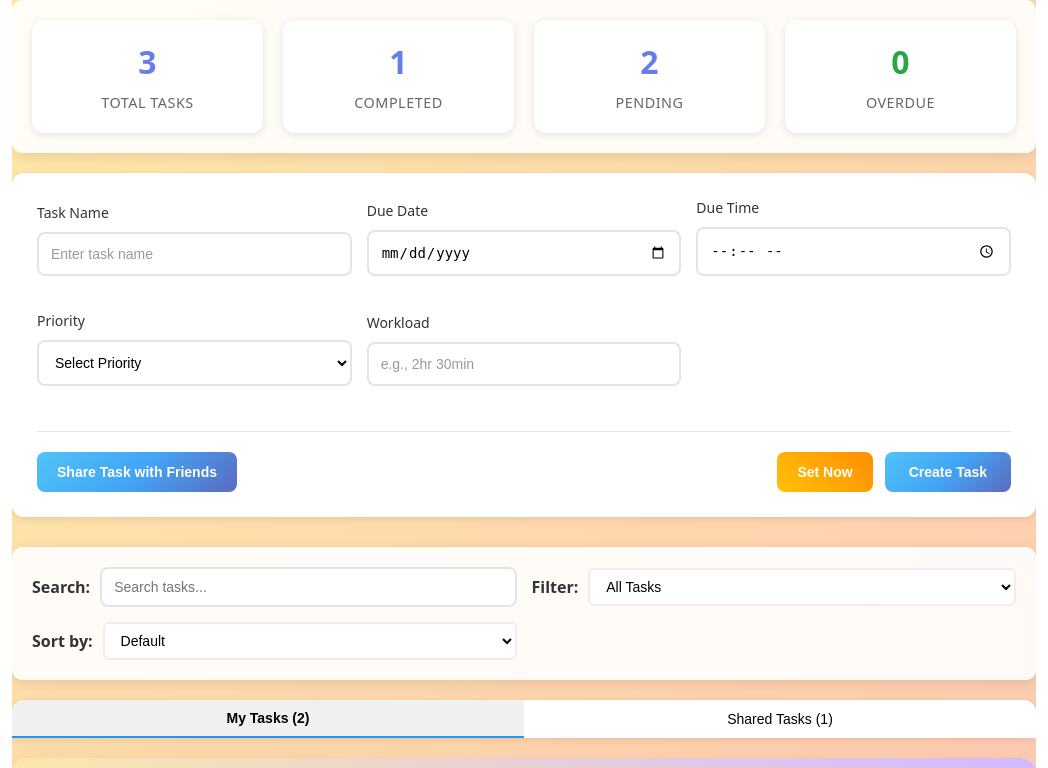
Test case: Task component › shows validation error for missing priority
Type "Valid Task" into the field with placeholder "Enter task name" at {"x": 194, "y": 254}, box [37, 232, 352, 276]
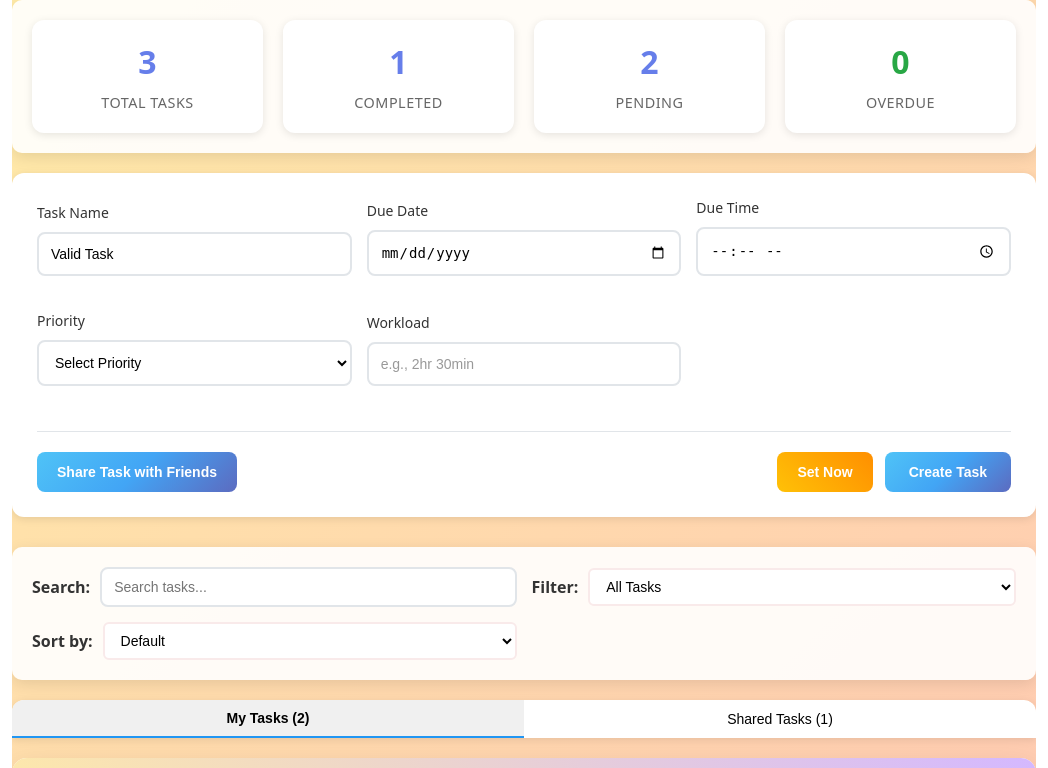
Type "2099-12-30" into the date field labelled "Due Date" at {"x": 524, "y": 253}, box [367, 230, 681, 276]
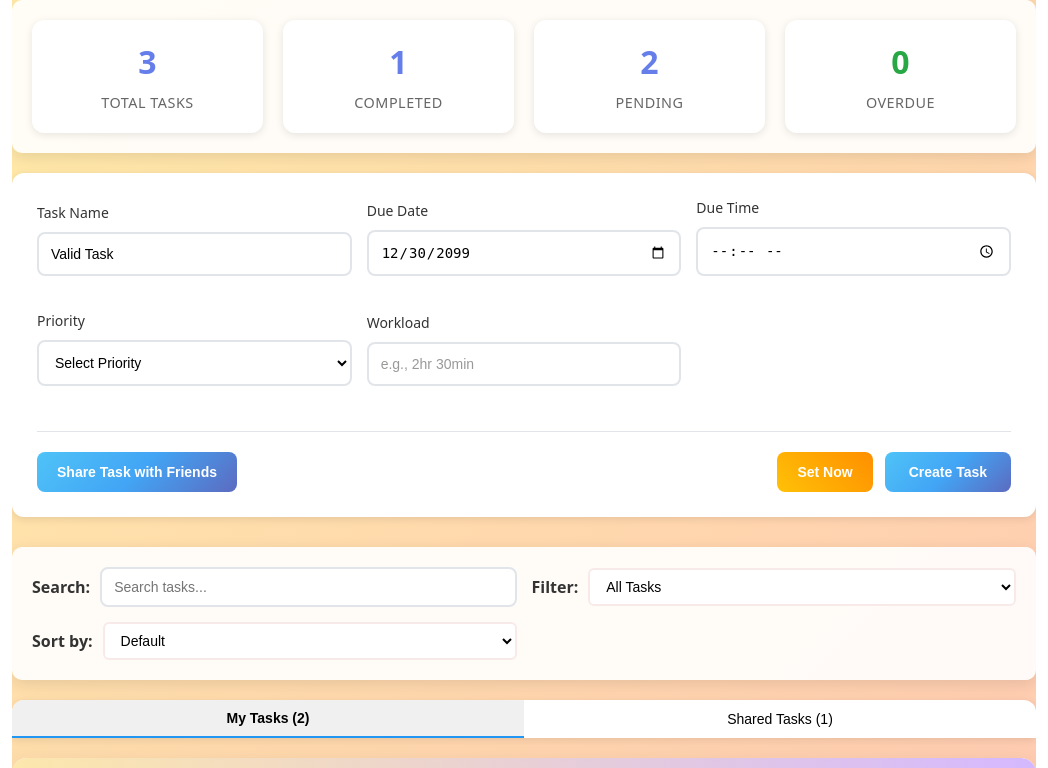
Type "1hr" into the field with placeholder "e.g., 2hr 30min" at {"x": 524, "y": 364}, box [367, 342, 681, 386]
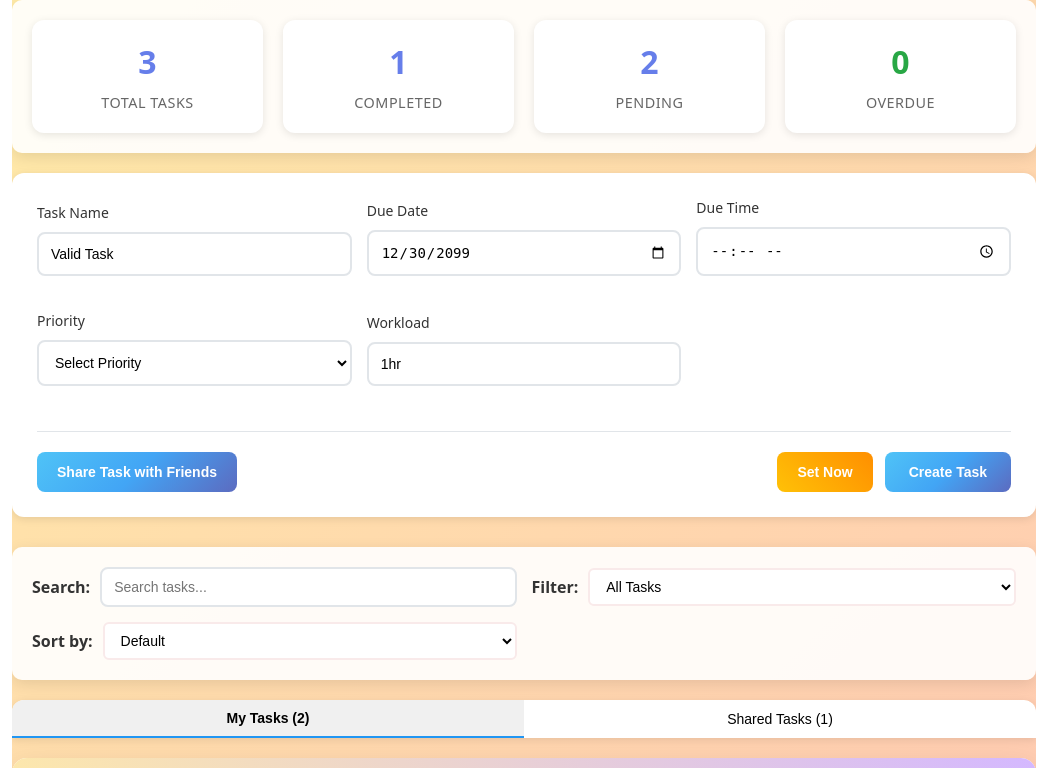
Click the button "Create Task" at {"x": 948, "y": 472}, box [885, 452, 1011, 492]
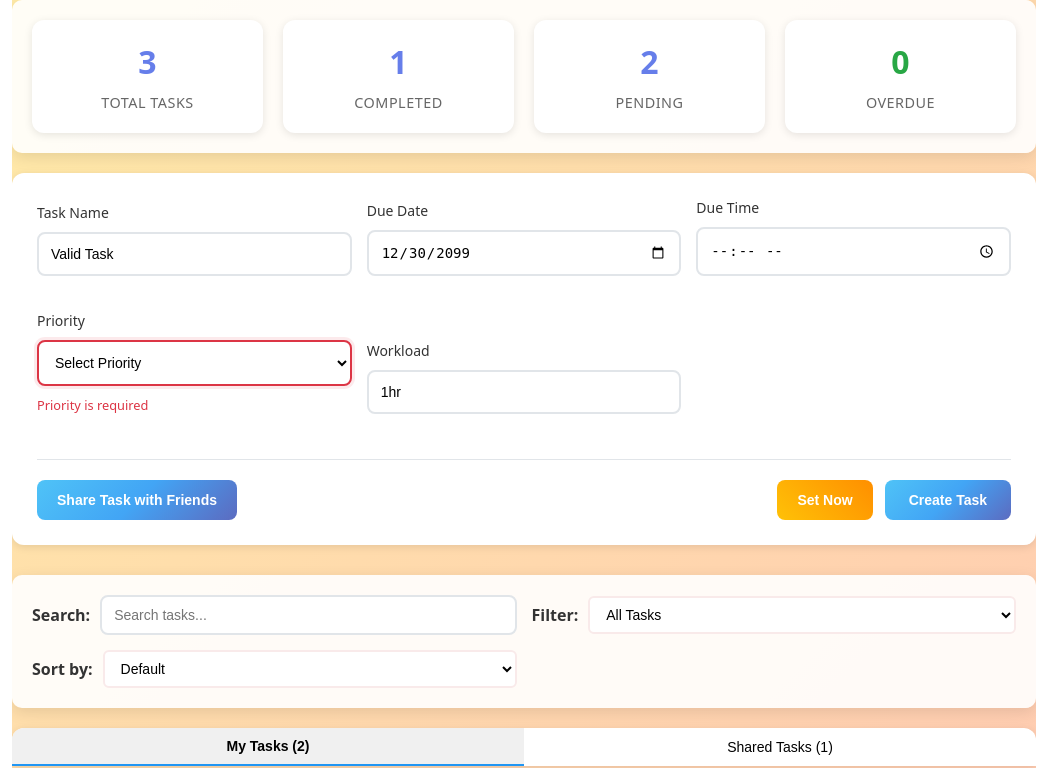
Result: the text "Priority is required" is shown at [37, 396, 148, 414]
